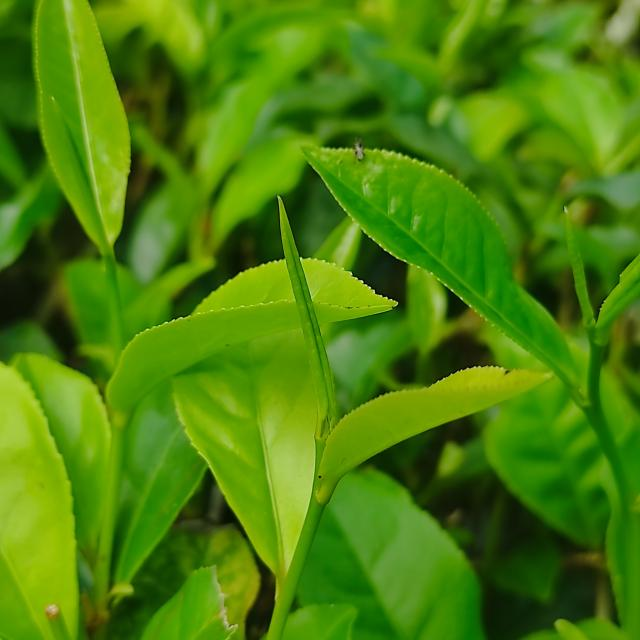unopened_leaf: (266, 185, 350, 429), (558, 197, 613, 369)
